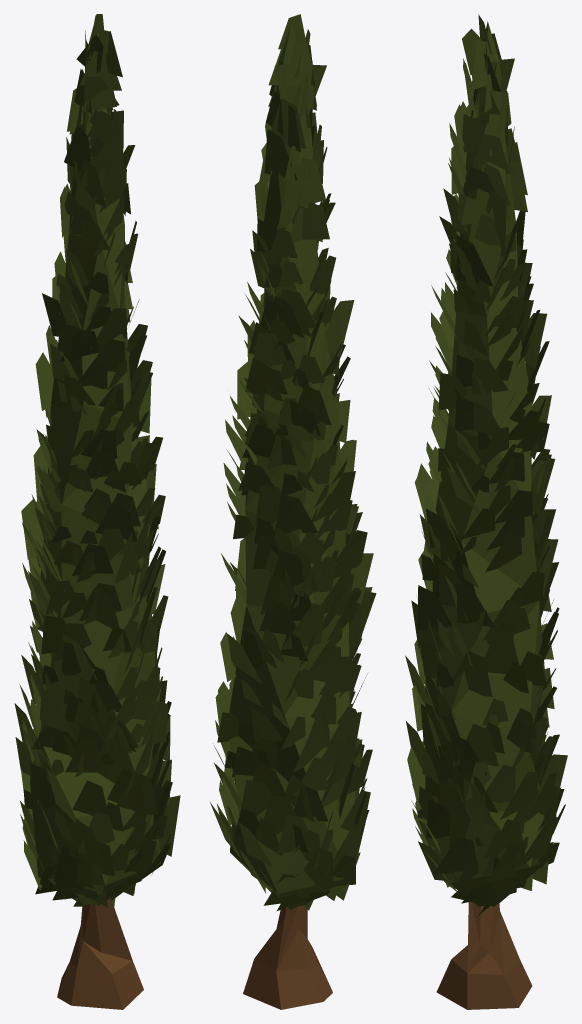
Rendered from SM_Tree_Cypress_Mature_A.fbx.
3 views of the same model, side by side, from view 1: azimuth 30°, elevation 25°; view 2: azimuth 150°, elevation 25°; view 3: azimuth 270°, elevation 25° (orthographic).
Parts seen in each view (by area): view 1: tree-cypress-mature-a; view 2: tree-cypress-mature-a; view 3: tree-cypress-mature-a.
Boxes of the visible parts, x1,y1,x2,y2 form: tree-cypress-mature-a: [14, 14, 180, 1009]; tree-cypress-mature-a: [210, 14, 376, 1009]; tree-cypress-mature-a: [405, 14, 567, 1009].
Size of the model in its own units: 1.16 by 7.8 by 1.18.
